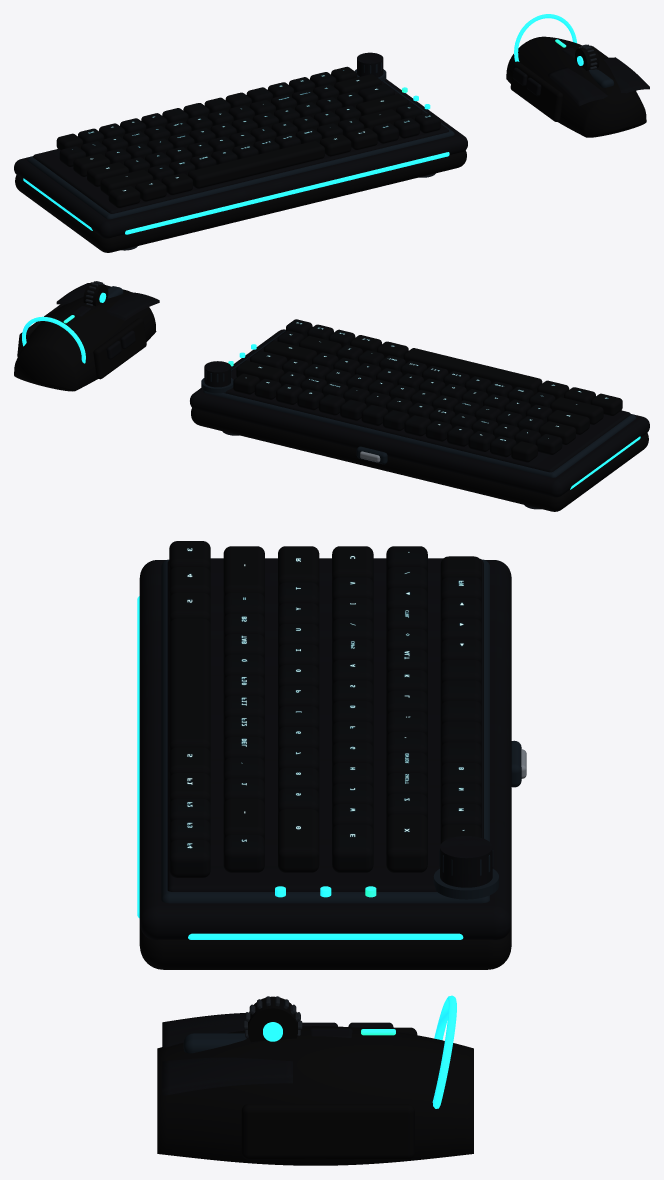
Rendered from keyboard-mouse.glb.
The picture shows the model from 3 angles, top to bottom: view 1: azimuth 30°, elevation 25°; view 2: azimuth 150°, elevation 25°; view 3: azimuth 270°, elevation 25°; orthographic projection. The views are drawn at different scales.
Visible parts, largest first — view 1: Keyboard_CNC_Frame, Keyboard_Underbody, Mouse_MainShell, Keyboard_SwitchPlate, Keyboard_Key_72_SPACE, Keyboard_Gasket_Shadow, Keyboard_RGB_Front, Mouse_Grip_Left, Mouse_LeftButton, Mouse_RightButton, Keyboard_Key_56_SHIFT, Keyboard_Key_55_ENTER (+16 smaller); view 2: Keyboard_CNC_Frame, Keyboard_Underbody, Mouse_MainShell, Keyboard_SwitchPlate, Keyboard_Gasket_Shadow, Keyboard_Key_72_SPACE, Mouse_Grip_Left, Mouse_LeftButton, Keyboard_Key_56_SHIFT, Keyboard_Key_55_ENTER, Keyboard_VolumeKnob, Keyboard_Key_28_BS (+26 smaller); view 3: Keyboard_SwitchPlate, Keyboard_CNC_Frame, Mouse_MainShell, Keyboard_Underbody, Mouse_Grip_Right, Keyboard_Gasket_Shadow, Keyboard_Key_72_SPACE, Mouse_RightButton, Keyboard_Key_55_ENTER, Keyboard_VolumeKnob, Keyboard_Key_28_BS, Keyboard_Key_42_BACKSLASH (+79 smaller).
Part boxes in pixels (x1=…): Keyboard_CNC_Frame: x1=14, y1=79, x2=467, y2=238; Keyboard_Underbody: x1=15, y1=150, x2=466, y2=252; Mouse_MainShell: x1=506, y1=36, x2=646, y2=137; Keyboard_SwitchPlate: x1=33, y1=81, x2=448, y2=213; Keyboard_Key_72_SPACE: x1=188, y1=141, x2=324, y2=188; Keyboard_Gasket_Shadow: x1=27, y1=81, x2=454, y2=219; Keyboard_RGB_Front: x1=125, y1=152, x2=449, y2=234; Mouse_Grip_Left: x1=510, y1=61, x2=563, y2=121; Mouse_LeftButton: x1=548, y1=67, x2=607, y2=106; Mouse_RightButton: x1=603, y1=57, x2=649, y2=93; Keyboard_Key_56_SHIFT: x1=100, y1=169, x2=153, y2=195; Keyboard_Key_55_ENTER: x1=356, y1=94, x2=408, y2=115; Keyboard_CNC_Frame: x1=190, y1=329, x2=649, y2=497; Keyboard_Underbody: x1=191, y1=408, x2=648, y2=511; Mouse_MainShell: x1=14, y1=289, x2=156, y2=391; Keyboard_SwitchPlate: x1=224, y1=331, x2=630, y2=472; Keyboard_Gasket_Shadow: x1=203, y1=330, x2=636, y2=477; Keyboard_Key_72_SPACE: x1=403, y1=348, x2=542, y2=394; Mouse_Grip_Left: x1=93, y1=318, x2=146, y2=379; Mouse_LeftButton: x1=106, y1=292, x2=159, y2=320; Keyboard_Key_56_SHIFT: x1=550, y1=397, x2=603, y2=424; Keyboard_Key_55_ENTER: x1=263, y1=340, x2=316, y2=366; Keyboard_VolumeKnob: x1=204, y1=361, x2=230, y2=387; Keyboard_Key_28_BS: x1=236, y1=361, x2=284, y2=381; Keyboard_SwitchPlate: x1=167, y1=558, x2=483, y2=891; Keyboard_CNC_Frame: x1=139, y1=560, x2=511, y2=939; Mouse_MainShell: x1=157, y1=1026, x2=473, y2=1165; Keyboard_Underbody: x1=139, y1=923, x2=511, y2=969; Mouse_Grip_Right: x1=241, y1=1104, x2=414, y2=1159; Keyboard_Gasket_Shadow: x1=161, y1=559, x2=489, y2=903; Keyboard_Key_72_SPACE: x1=169, y1=618, x2=210, y2=753; Mouse_RightButton: x1=162, y1=1057, x2=292, y2=1095; Keyboard_Key_55_ENTER: x1=278, y1=808, x2=319, y2=872; Keyboard_VolumeKnob: x1=440, y1=836, x2=492, y2=887; Keyboard_Key_28_BS: x1=386, y1=814, x2=427, y2=872; Keyboard_Key_42_BACKSLASH: x1=332, y1=824, x2=373, y2=872.
Size of the model in its own units: 0.5149 by 0.0586 by 0.155.
Materials: 11 (6 with a texture image).
